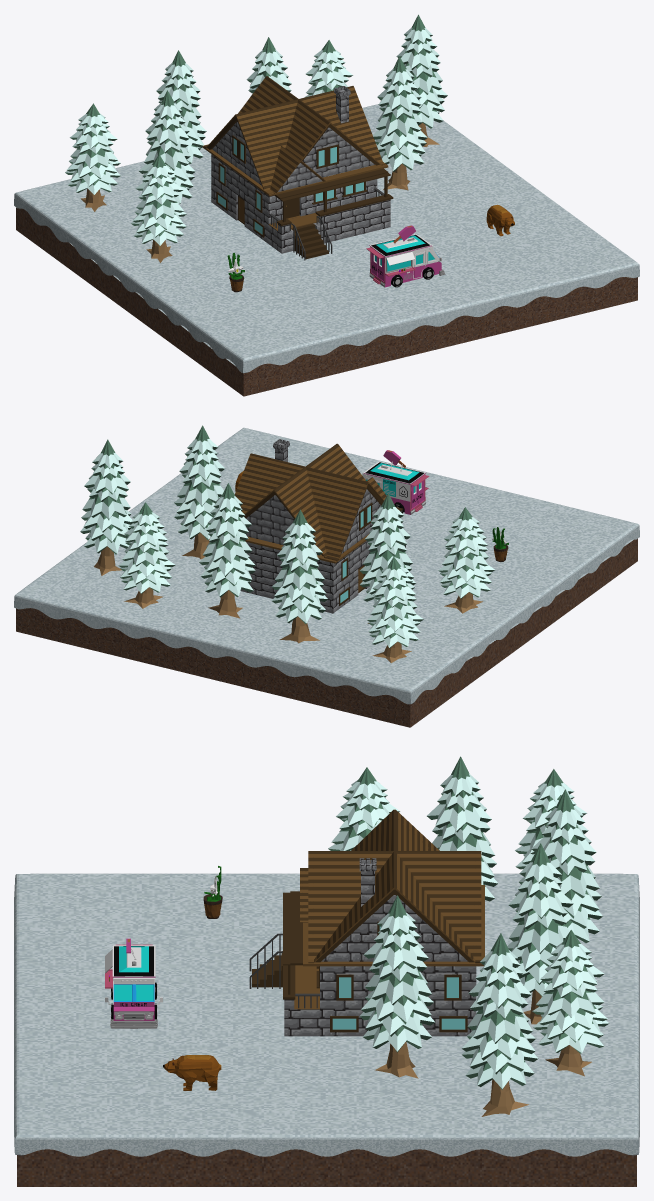
3 views of the same model, one above another, from view 1: azimuth 30°, elevation 25°; view 2: azimuth 150°, elevation 25°; view 3: azimuth 270°, elevation 25° (orthographic). The views are drawn at different scales.
Visible parts, largest first — view 1: Cube.003, Cube.586, VEHICLES_ICE_CREAM_TRUCK, ANIMAL_OSO; view 2: Cube.003, Cube.586, VEHICLES_ICE_CREAM_TRUCK; view 3: Cube.003, Cube.586, VEHICLES_ICE_CREAM_TRUCK, ANIMAL_OSO, OBJRANDOM_MONJA BLANCA.
Boxes of the visible parts, box(x1,y1,x2,y2) form: Cube.003: box(14, 14, 639, 396); Cube.586: box(202, 76, 393, 260); VEHICLES_ICE_CREAM_TRUCK: box(366, 225, 445, 287); ANIMAL_OSO: box(486, 204, 514, 236); Cube.003: box(14, 425, 639, 727); Cube.586: box(234, 439, 405, 613); VEHICLES_ICE_CREAM_TRUCK: box(362, 450, 429, 514); Cube.003: box(14, 756, 639, 1186); Cube.586: box(249, 809, 484, 1036); VEHICLES_ICE_CREAM_TRUCK: box(105, 938, 162, 1028); ANIMAL_OSO: box(163, 1055, 221, 1090); OBJRANDOM_MONJA BLANCA: box(203, 866, 222, 918).
Bounding box in the file's own units: 4040 × 1665 × 4040.
Materials: 37 (4 with a texture image).
